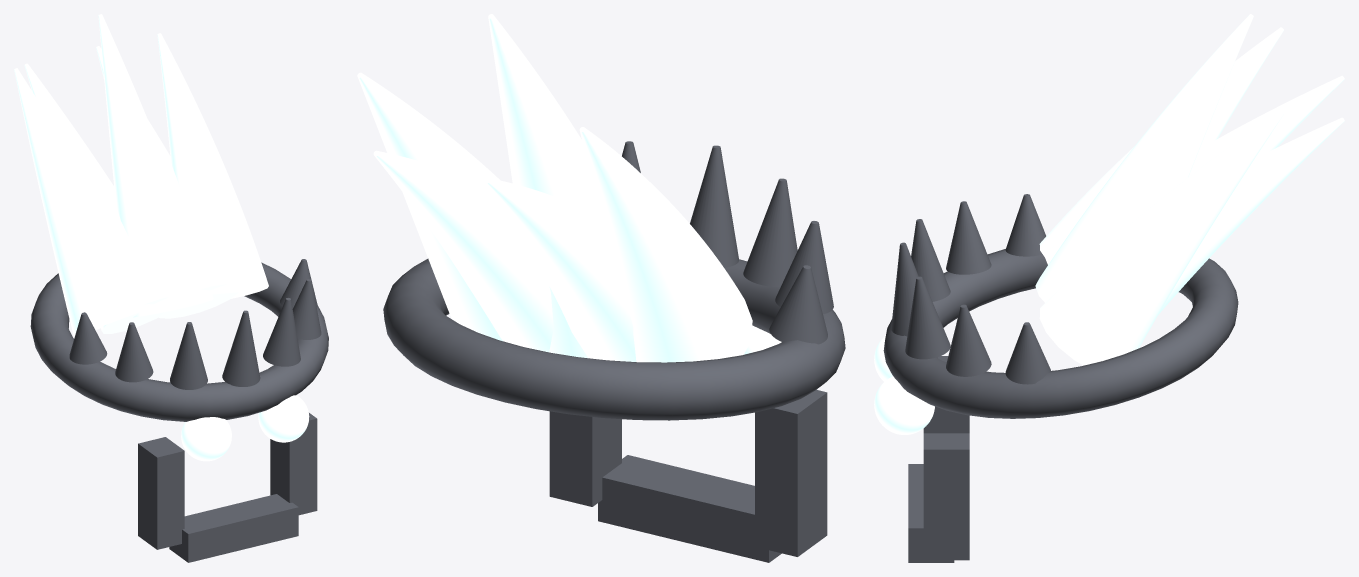
The model's file is thresh_crown.glb.
3 views of the same model, side by side, from view 1: azimuth 30°, elevation 25°; view 2: azimuth 150°, elevation 25°; view 3: azimuth 270°, elevation 25° (orthographic). The views are drawn at different scales.
Parts seen in each view (by area): view 1: thresh_crown; view 2: thresh_crown; view 3: thresh_crown.
Boxes of the visible parts, left/top/right/bottom form: thresh_crown: left=14, top=14, right=328, bottom=562; thresh_crown: left=357, top=14, right=845, bottom=562; thresh_crown: left=874, top=14, right=1344, bottom=562.
Size of the model in its own units: 0.47 by 0.7465 by 0.6168.
